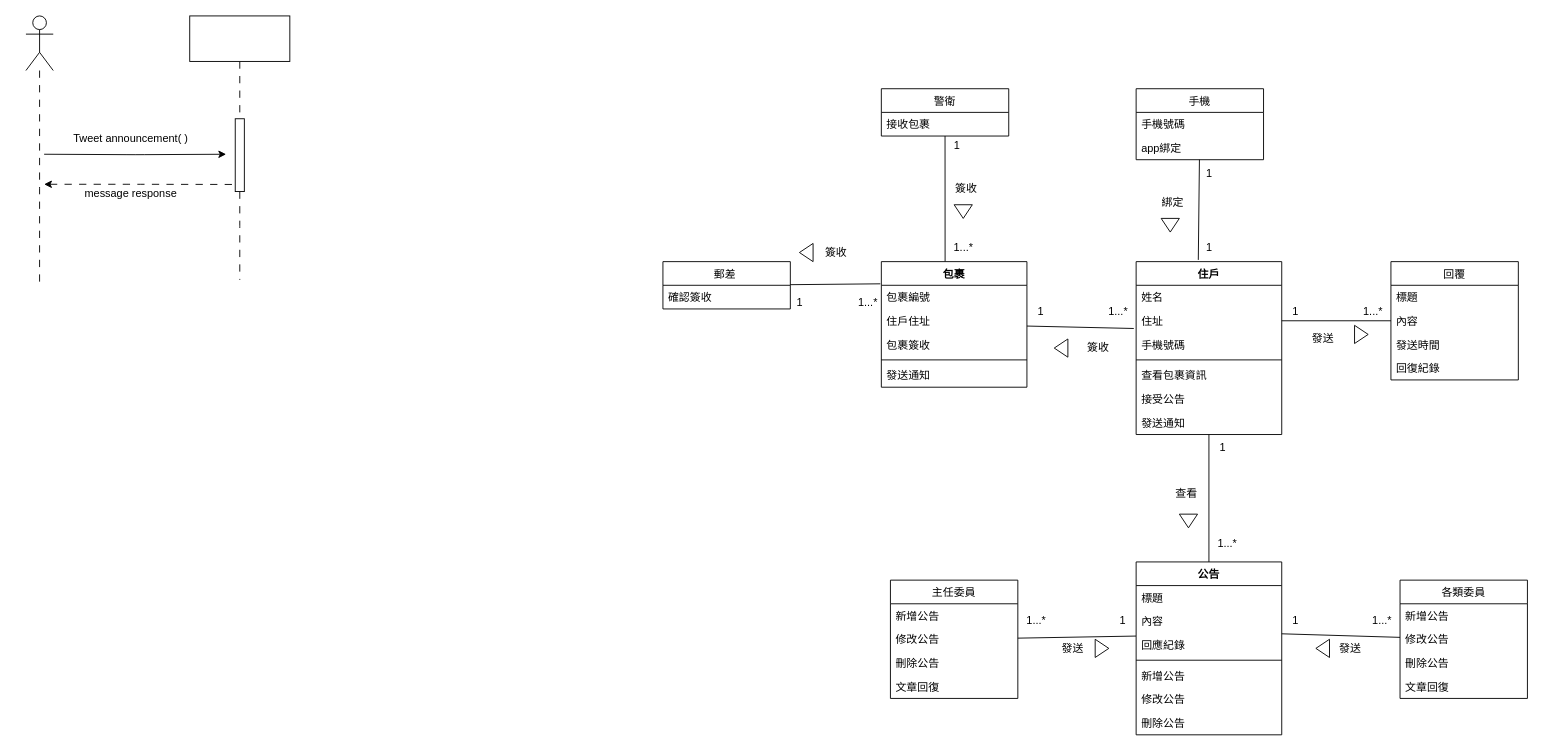
The diagram is 1543 pixels wide and 753 high, and some of its shapes have lost their labels. Each missing label, with the centre of its shape:
"APP" belongs at (239,38).
"Chairman" belongs at (39,43).
